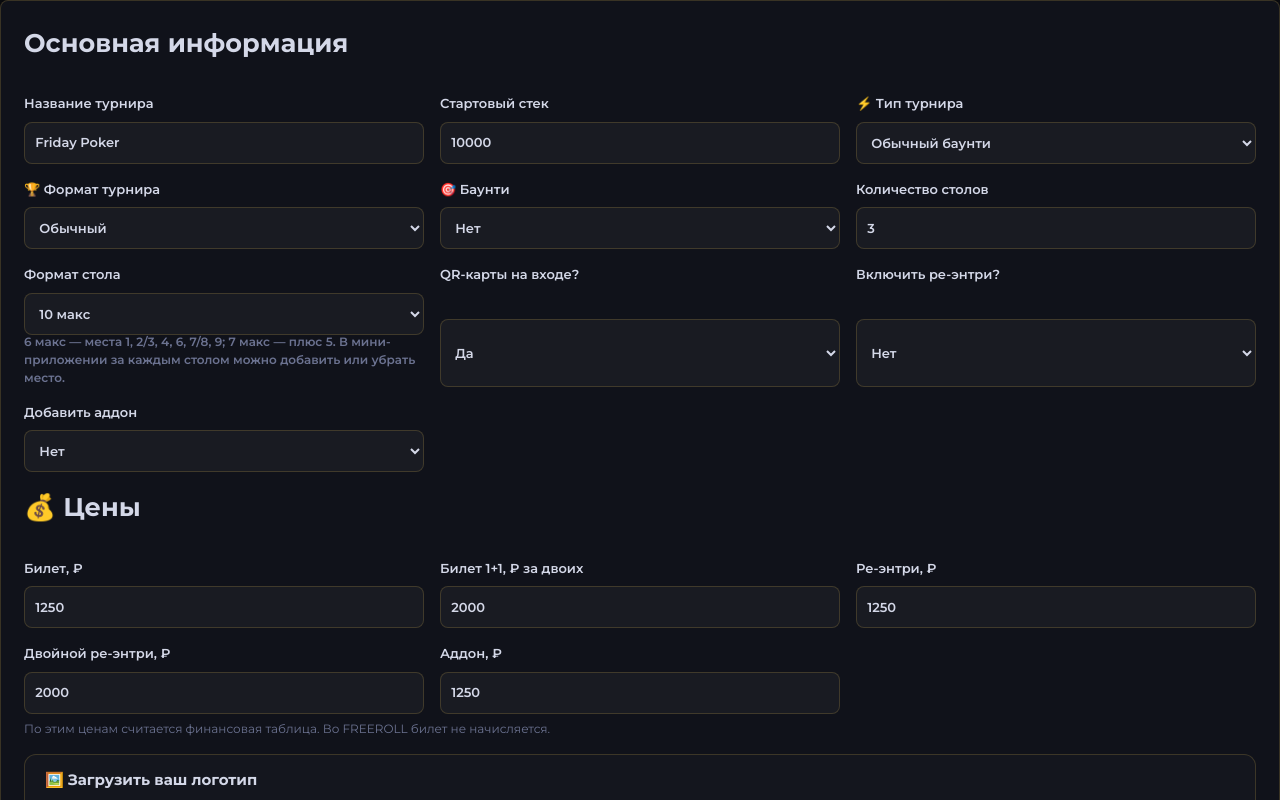
Test: PTS of the picked tournament type › names the templates it will put in when a type is picked
Step 1. Select "Мистери" in the dropdown labelled "⚡ Тип турнира" → (1056, 143), box [856,122,1256,164]
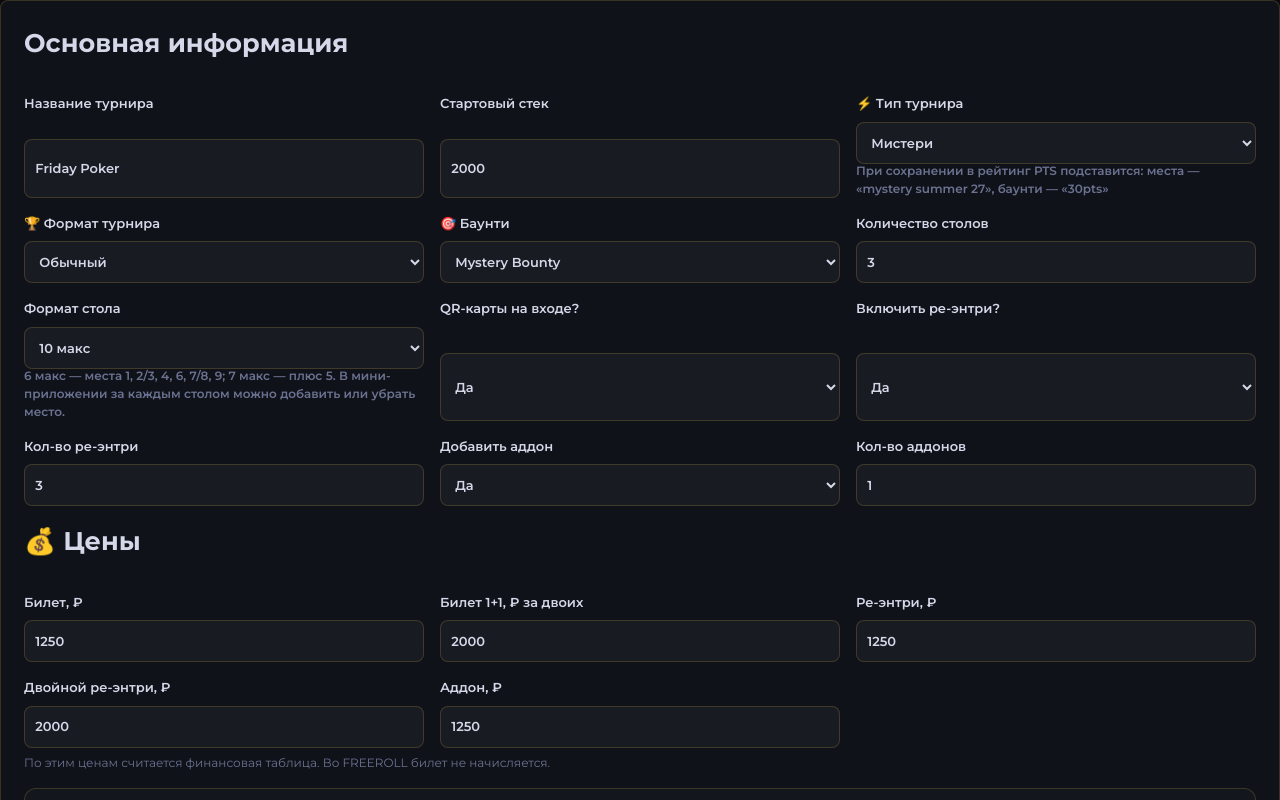
Result: the text "места — «mystery summer 27», баунти — «30pts»" is shown at [856,163,1200,196]
